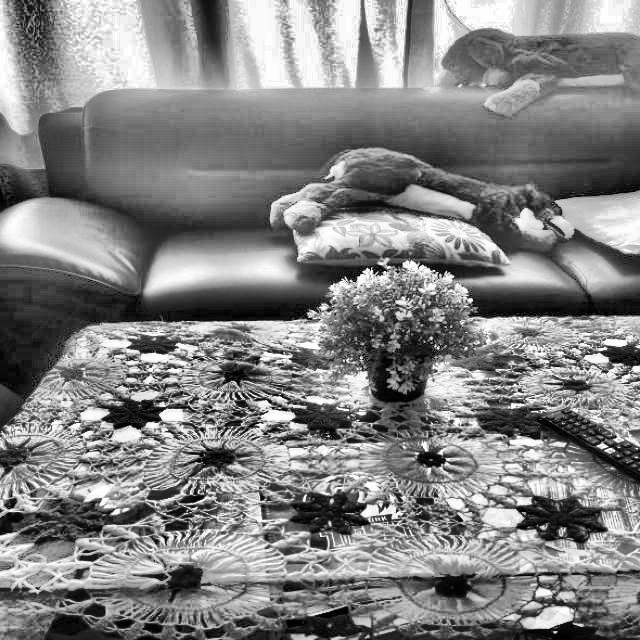plants: (312, 272, 499, 396)
